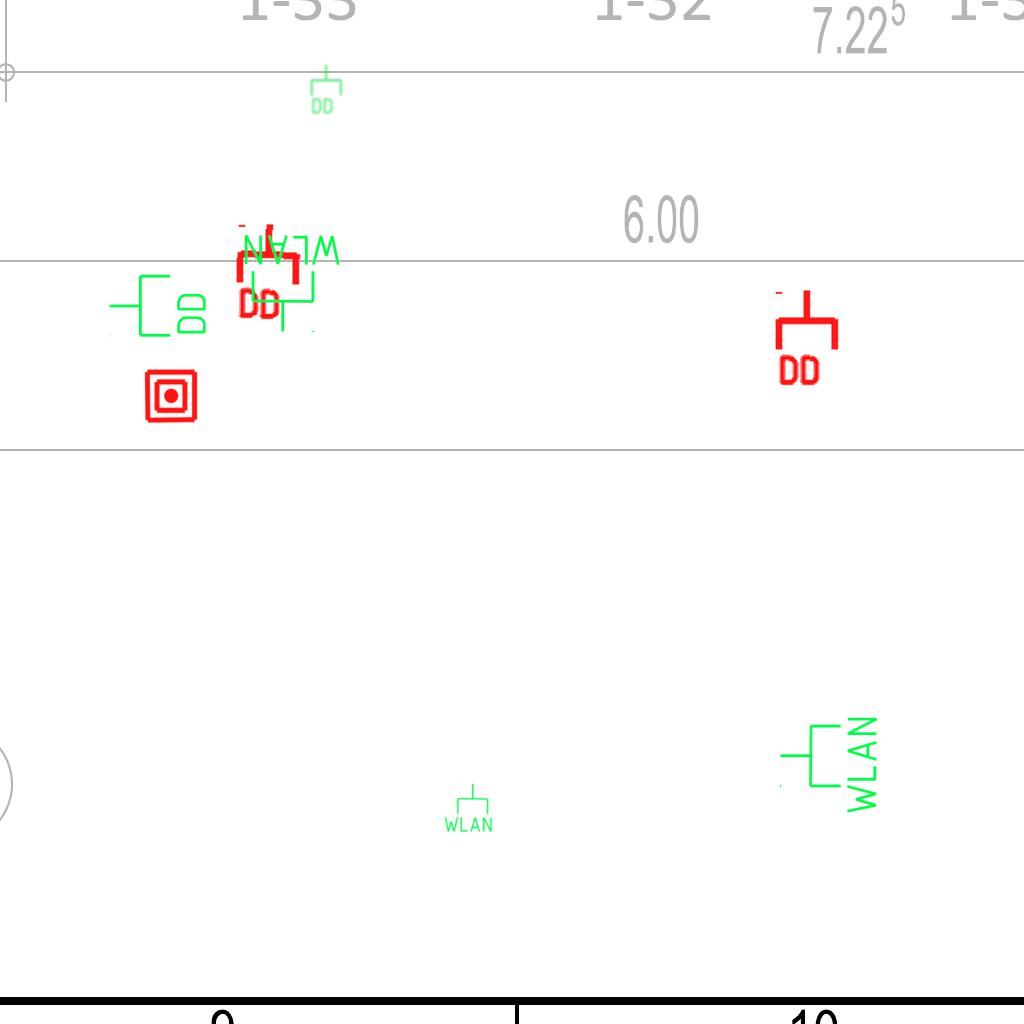Datenanschluss_zweifach: (233, 219, 306, 326), (774, 287, 843, 390), (107, 272, 210, 341), (309, 64, 343, 115)
NAM-Nichtautomatischer_Melder: (143, 368, 199, 424)
WLAN: (777, 713, 881, 818), (240, 231, 345, 335), (442, 782, 494, 834)
